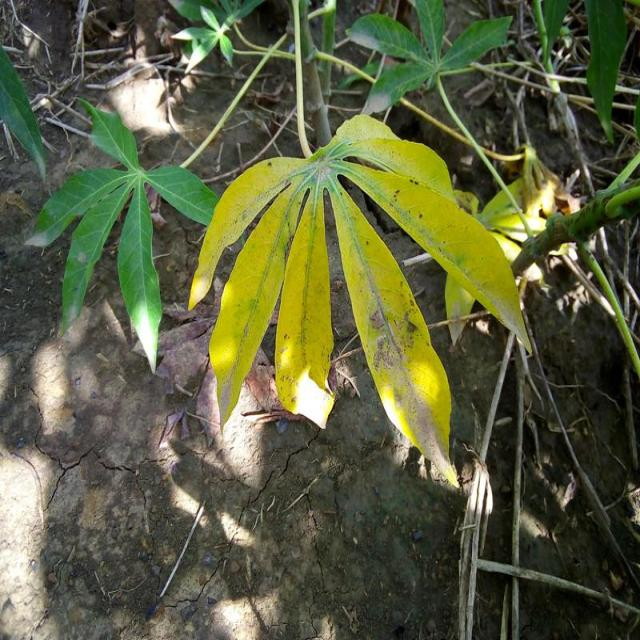cassava leaf: (188, 112, 534, 489)
